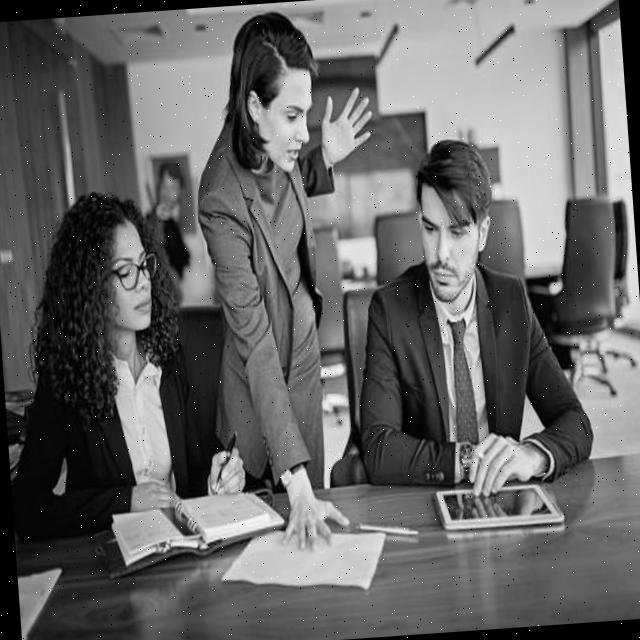Angry: (256, 66, 318, 174)
